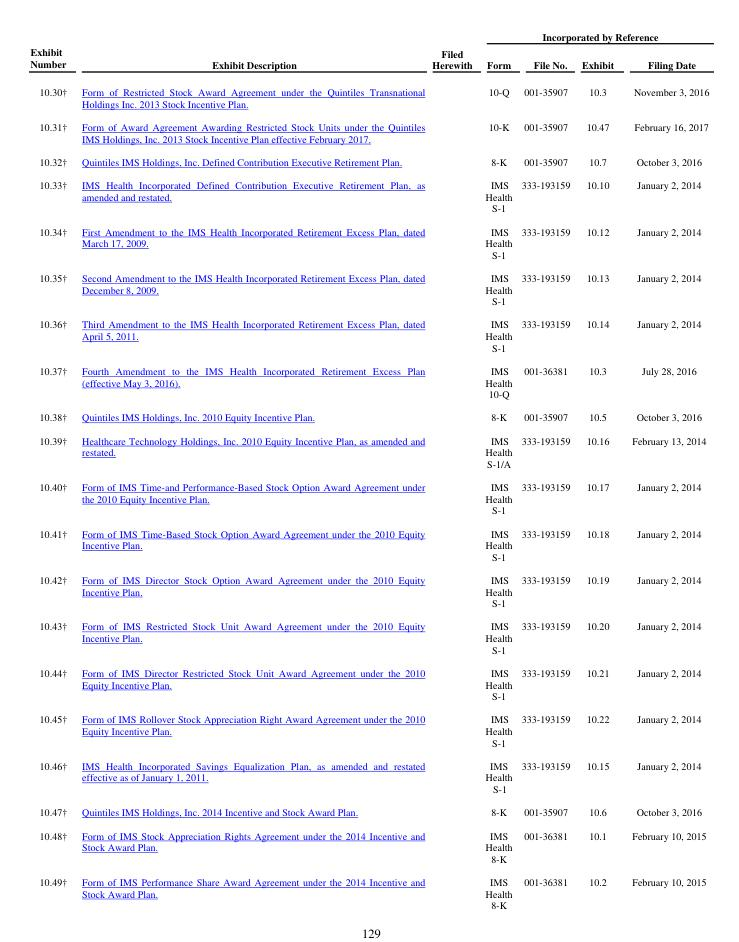table: (29, 29, 708, 911)
table column: (73, 29, 427, 911), (622, 29, 708, 911), (516, 29, 575, 911), (427, 29, 478, 911), (575, 29, 622, 911), (29, 29, 73, 911), (478, 29, 516, 911)
table column header: (29, 29, 708, 78)
table row: (29, 172, 708, 219), (29, 311, 708, 358), (29, 474, 708, 521), (29, 613, 708, 660), (29, 706, 708, 753), (29, 219, 708, 265), (29, 265, 708, 311), (29, 358, 708, 404), (29, 428, 708, 474), (29, 521, 708, 567), (29, 567, 708, 613), (29, 660, 708, 706), (29, 753, 708, 799), (29, 823, 708, 869), (29, 869, 708, 911), (29, 78, 708, 114), (29, 114, 708, 149), (29, 50, 708, 78), (29, 404, 708, 428), (29, 799, 708, 823), (29, 149, 708, 172), (29, 29, 708, 50)
table spanning cell: (73, 29, 427, 78), (478, 29, 708, 50), (427, 29, 478, 78), (29, 29, 73, 78)
